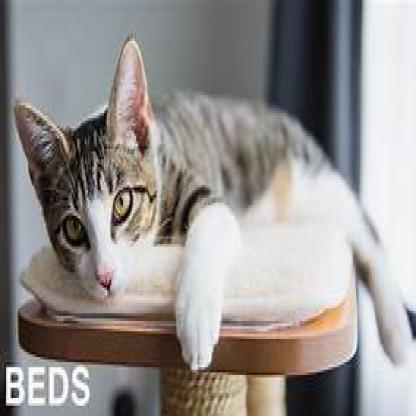cat: (13, 41, 242, 360)
